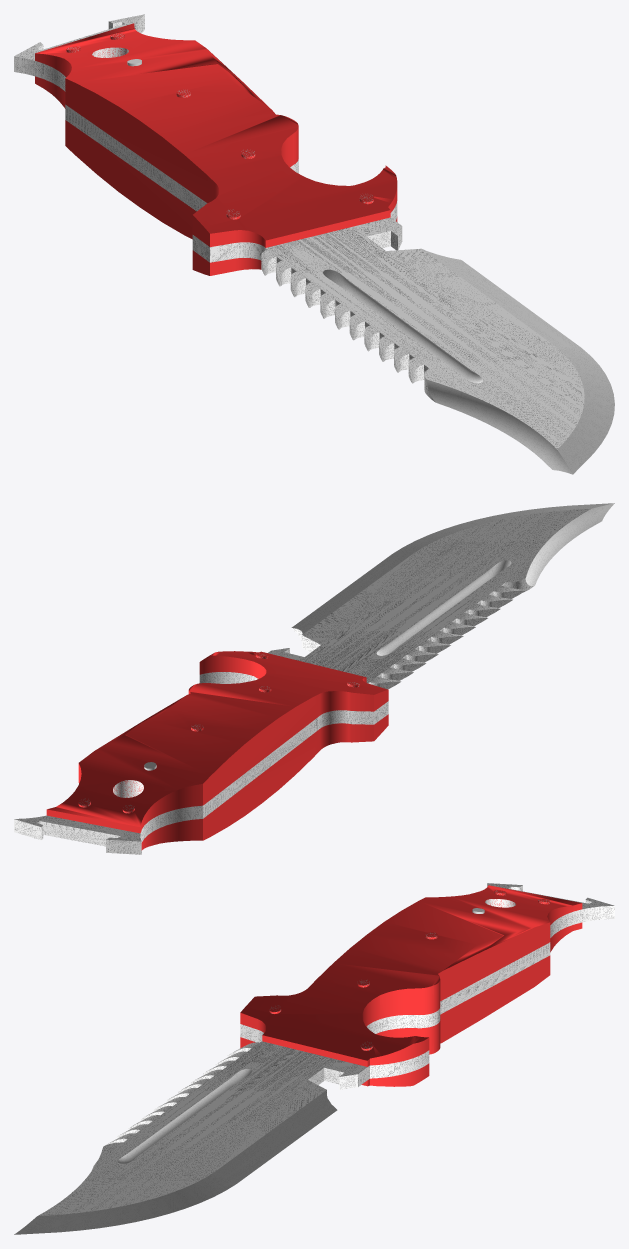
The model's file is model_scale.obj.
The picture shows the model from 3 angles, top to bottom: view 1: azimuth 30°, elevation 25°; view 2: azimuth 150°, elevation 25°; view 3: azimuth 330°, elevation 25°; orthographic projection. The views are drawn at different scales.
Visible parts, largest first — view 1: mesh6_mesh6-geometry, mesh4_mesh4-geometry, mesh1_mesh1-geometry, mesh3_mesh3-geometry; view 2: mesh6_mesh6-geometry, mesh4_mesh4-geometry, mesh1_mesh1-geometry, mesh3_mesh3-geometry; view 3: mesh6_mesh6-geometry, mesh4_mesh4-geometry, mesh1_mesh1-geometry, mesh3_mesh3-geometry.
Part boxes in pixels (bbox=[...]): mesh6_mesh6-geometry: bbox=[14, 14, 614, 474]; mesh4_mesh4-geometry: bbox=[35, 23, 397, 247]; mesh1_mesh1-geometry: bbox=[35, 76, 397, 275]; mesh3_mesh3-geometry: bbox=[323, 269, 482, 383]; mesh6_mesh6-geometry: bbox=[14, 503, 614, 854]; mesh4_mesh4-geometry: bbox=[46, 651, 388, 833]; mesh1_mesh1-geometry: bbox=[141, 714, 388, 850]; mesh3_mesh3-geometry: bbox=[376, 560, 511, 655]; mesh6_mesh6-geometry: bbox=[14, 883, 614, 1234]; mesh4_mesh4-geometry: bbox=[240, 885, 582, 1066]; mesh1_mesh1-geometry: bbox=[240, 922, 582, 1086]; mesh3_mesh3-geometry: bbox=[117, 1069, 252, 1164].
Size of the model in its own units: 0.0401 by 0.0174 by 0.1989.
